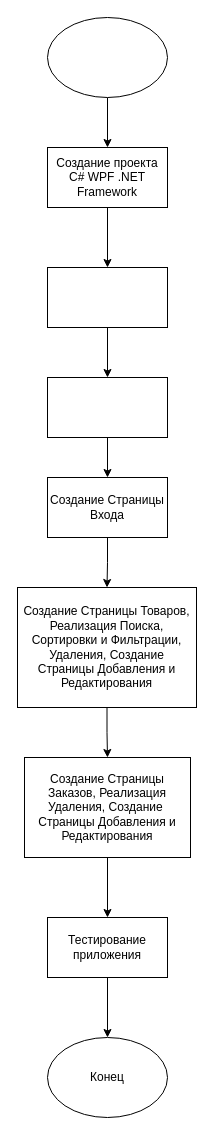
This 214x1135 diagram has some shape labels left out. Each missing label, with the centre of its shape:
Начало: point 107,57
Создание Главной Страницы: point 107,407
Создание Модели ADO NET EDM: point 107,297
